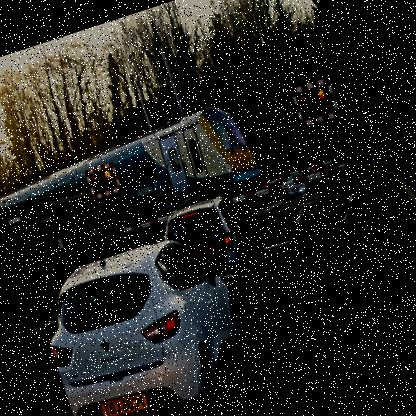Car: (30, 225, 265, 415), (154, 184, 278, 316), (284, 167, 316, 201), (310, 156, 330, 178)
